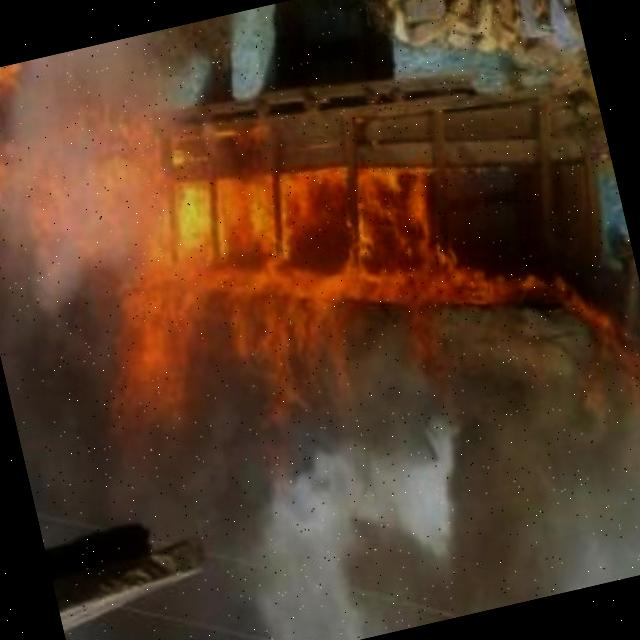fire: (64, 52, 506, 470)
